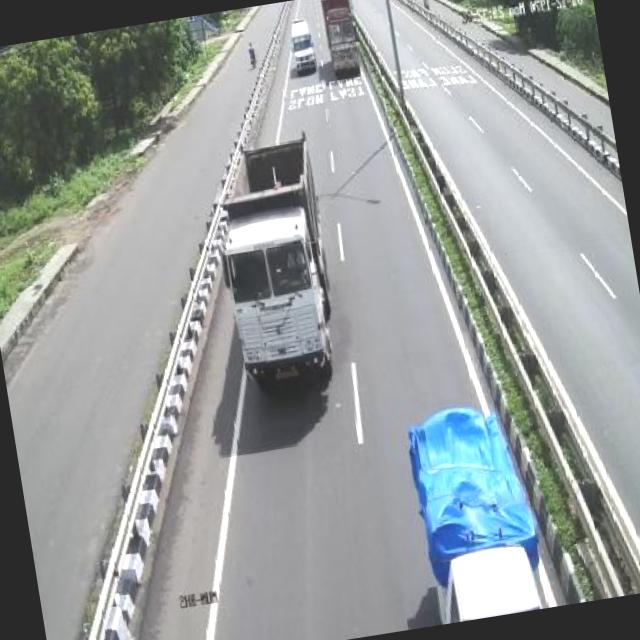car: (284, 14, 318, 76)
